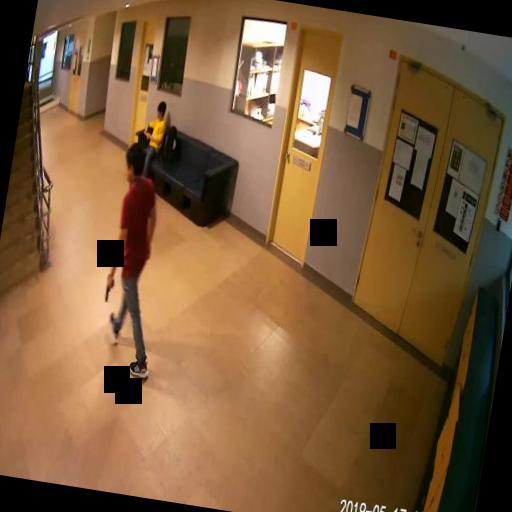Handgun: (102, 270, 114, 302)
